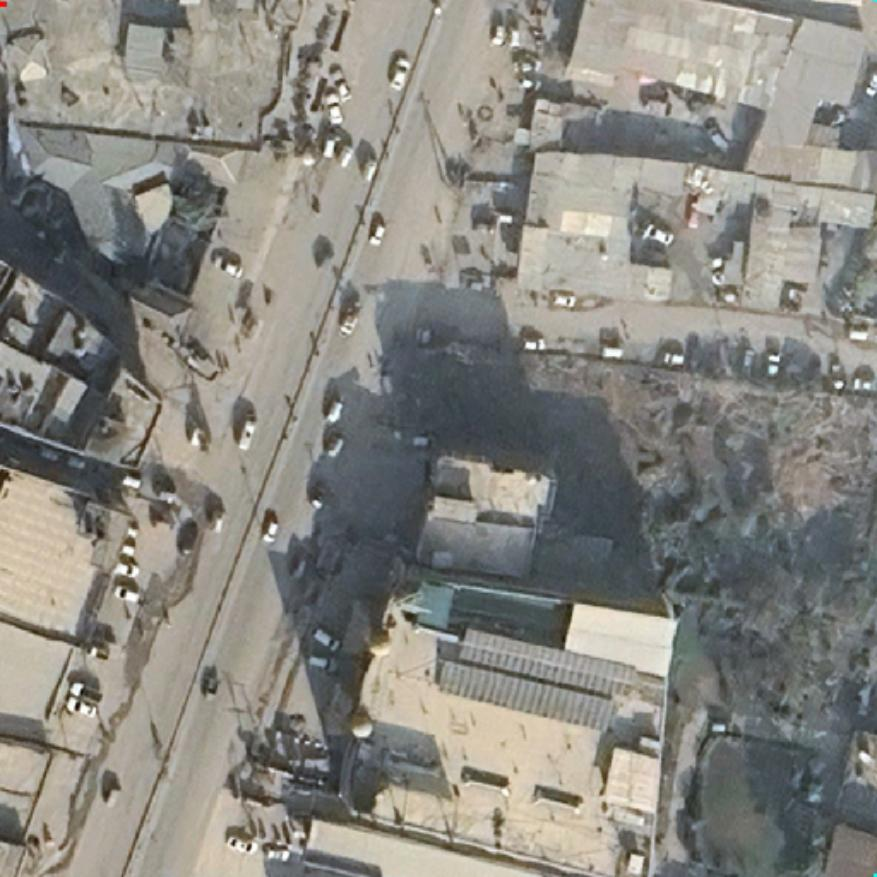Solarpanel: (427, 624, 641, 732)
